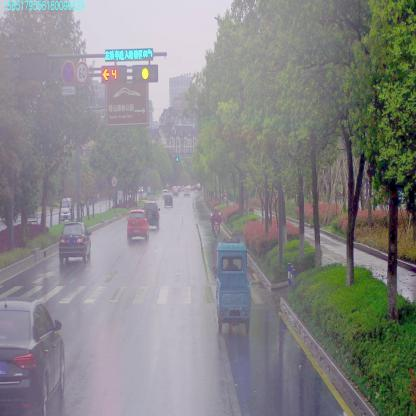traffic-light: (104, 47, 153, 59), (133, 63, 156, 81), (101, 68, 124, 82)
